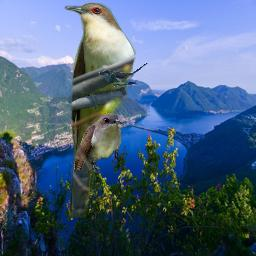Cuckoo: (64, 2, 137, 218), (74, 113, 124, 170), (98, 62, 149, 87)
